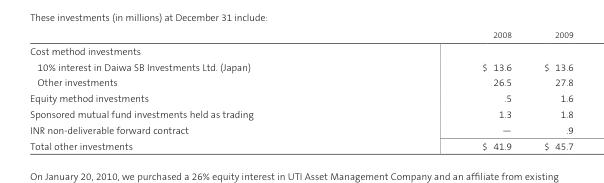table: (29, 29, 572, 151)
table column: (29, 29, 366, 151), (366, 29, 527, 151), (527, 29, 572, 151)
table column header: (29, 29, 572, 42)
table projected row header: (29, 42, 572, 58)
table row: (29, 42, 572, 58), (29, 58, 572, 74), (29, 74, 572, 90), (29, 90, 572, 106), (29, 106, 572, 122), (29, 122, 572, 138), (29, 29, 572, 42), (29, 138, 572, 151)
